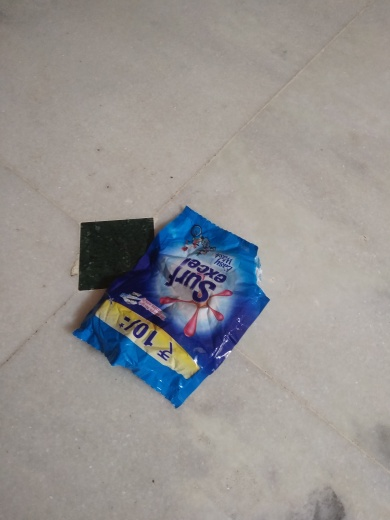surf: (79, 195, 278, 413)
